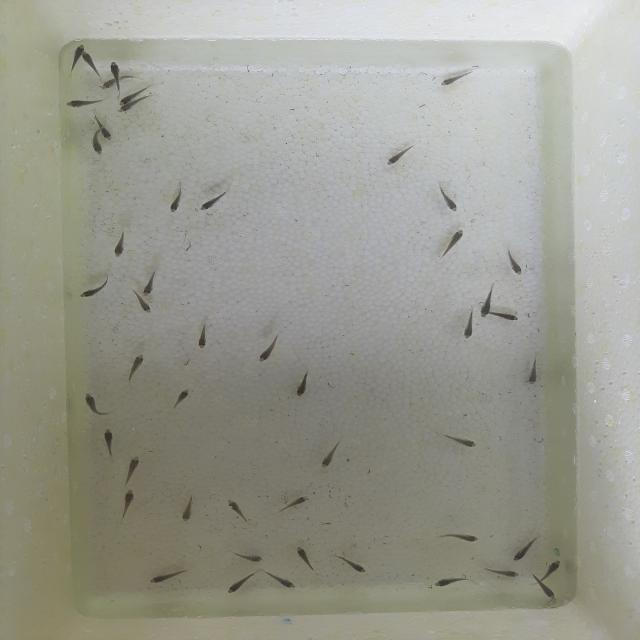fingerling: (383, 139, 425, 168), (146, 564, 197, 586), (430, 431, 483, 451), (433, 68, 477, 92), (193, 187, 229, 214), (223, 496, 255, 526), (254, 330, 281, 364), (223, 571, 259, 596), (318, 437, 346, 469), (274, 494, 314, 516), (123, 352, 147, 387), (76, 277, 114, 299), (264, 571, 302, 593), (170, 382, 196, 414), (82, 390, 111, 418), (292, 545, 320, 574), (228, 548, 268, 567), (291, 366, 314, 399), (178, 488, 199, 524), (108, 231, 133, 261), (333, 554, 370, 574), (509, 536, 537, 562), (162, 184, 184, 217), (120, 454, 142, 486), (440, 231, 465, 259), (193, 317, 213, 352), (436, 182, 459, 212), (430, 574, 479, 588), (117, 487, 137, 521), (434, 531, 481, 544), (100, 427, 118, 459), (82, 131, 103, 158), (61, 98, 108, 110), (69, 41, 85, 75), (80, 50, 102, 74), (534, 581, 559, 602), (525, 354, 540, 388), (133, 290, 156, 312), (539, 558, 563, 579), (488, 306, 519, 322), (99, 121, 121, 142), (140, 268, 157, 295), (485, 566, 523, 578), (507, 252, 526, 275), (477, 294, 495, 318), (99, 76, 120, 94), (106, 56, 124, 76), (463, 314, 476, 338), (120, 91, 134, 107)
